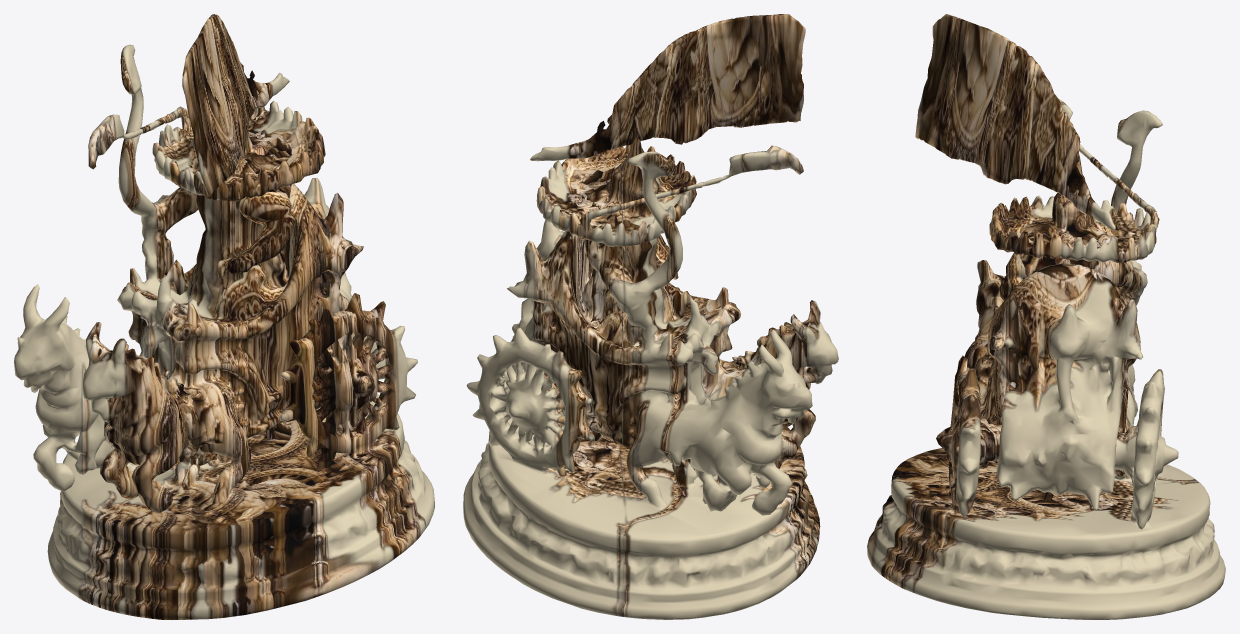
Rendered from ratha.glb.
The picture shows the model from 3 angles, left to right: view 1: azimuth 30°, elevation 25°; view 2: azimuth 150°, elevation 25°; view 3: azimuth 270°, elevation 25°; orthographic projection. The views are drawn at different scales.
Visible parts, largest first — view 1: geometry_0; view 2: geometry_0; view 3: geometry_0.
Boxes of the visible parts, bbox=[...] form: geometry_0: bbox=[14, 14, 434, 619]; geometry_0: bbox=[463, 14, 838, 619]; geometry_0: bbox=[867, 14, 1225, 619].
Bounding box in the file's own units: 1.39 × 2.05 × 1.25.
Materials: 1 (1 with a texture image).
